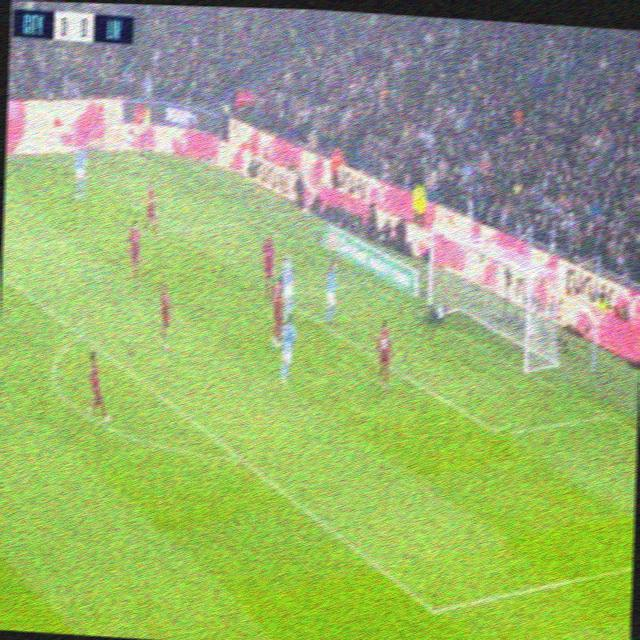bigarea_bottom_inner: (418, 592, 446, 627)
bigarea_top_outter: (248, 209, 264, 229)
bottom_arc_area_intersection: (228, 442, 250, 471)
corner: (130, 148, 152, 164)
smallarea_bottom_inner: (486, 416, 512, 450)
smallarea_bottom_outter: (594, 399, 614, 428)
smallarea_top_outter: (355, 270, 374, 292)
top_arc_area_intersection: (70, 321, 88, 345)
